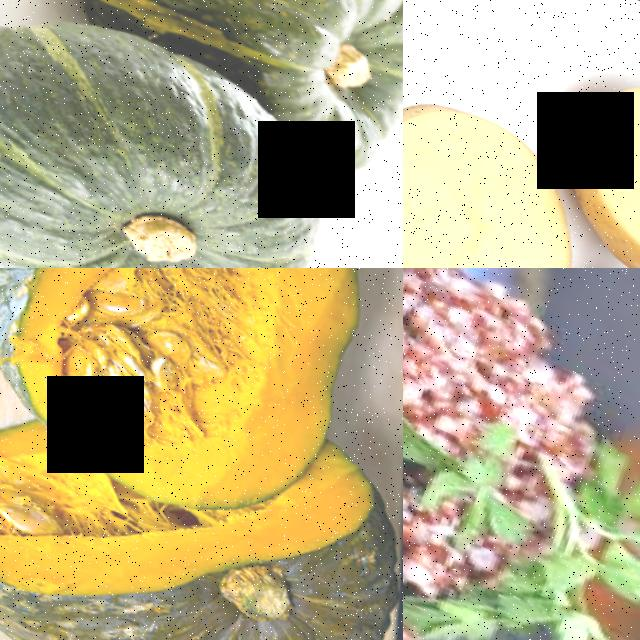potato: (403, 68, 617, 268), (525, 33, 640, 268)
pumpkin: (0, 268, 403, 543), (0, 384, 402, 640), (0, 0, 368, 268), (45, 0, 403, 152)
red rice: (403, 268, 493, 640)
